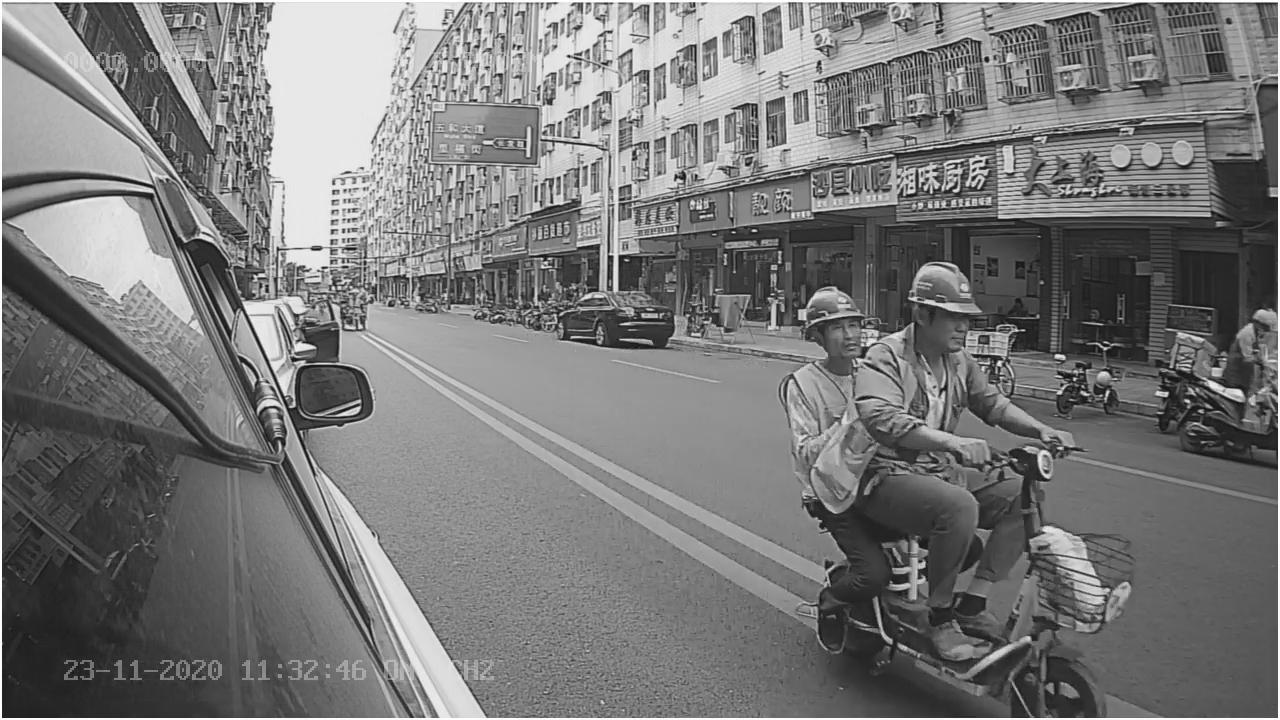person: (857, 242, 1053, 457)
